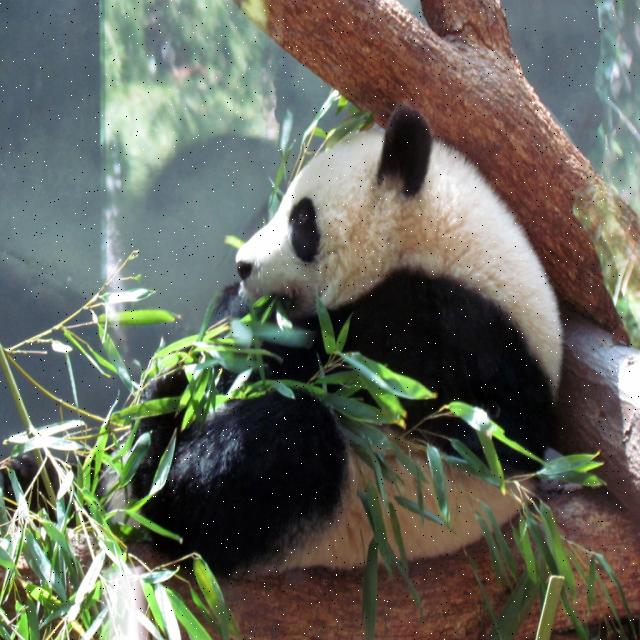panda: (106, 102, 570, 584)
